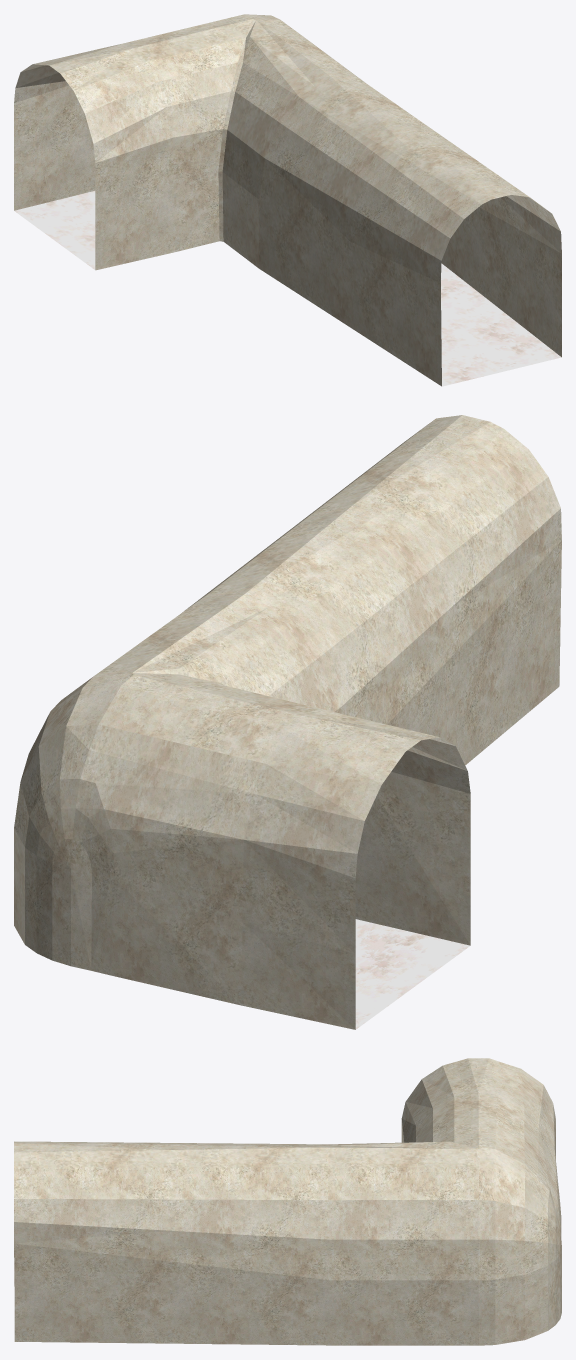
File: thm_tato_assoc_hall_civ_s02_r13_hall1_mesh_r13.fbx
The picture shows the model from 3 angles, top to bottom: view 1: azimuth 30°, elevation 25°; view 2: azimuth 150°, elevation 25°; view 3: azimuth 270°, elevation 25°; orthographic projection. The views are drawn at different scales.
Parts seen in each view (by area): view 1: mesh_node; view 2: mesh_node; view 3: mesh_node.
Part boxes in pixels (x1,y1,x2,y2): mesh_node: (14,14,561,386); mesh_node: (14,415,561,1029); mesh_node: (14,1058,561,1345).
Bounding box in the file's own units: 5.27 × 3.26 × 9.78.
